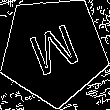M_S: (23, 18, 84, 83)
